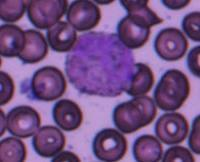E: (65, 32, 136, 98)
